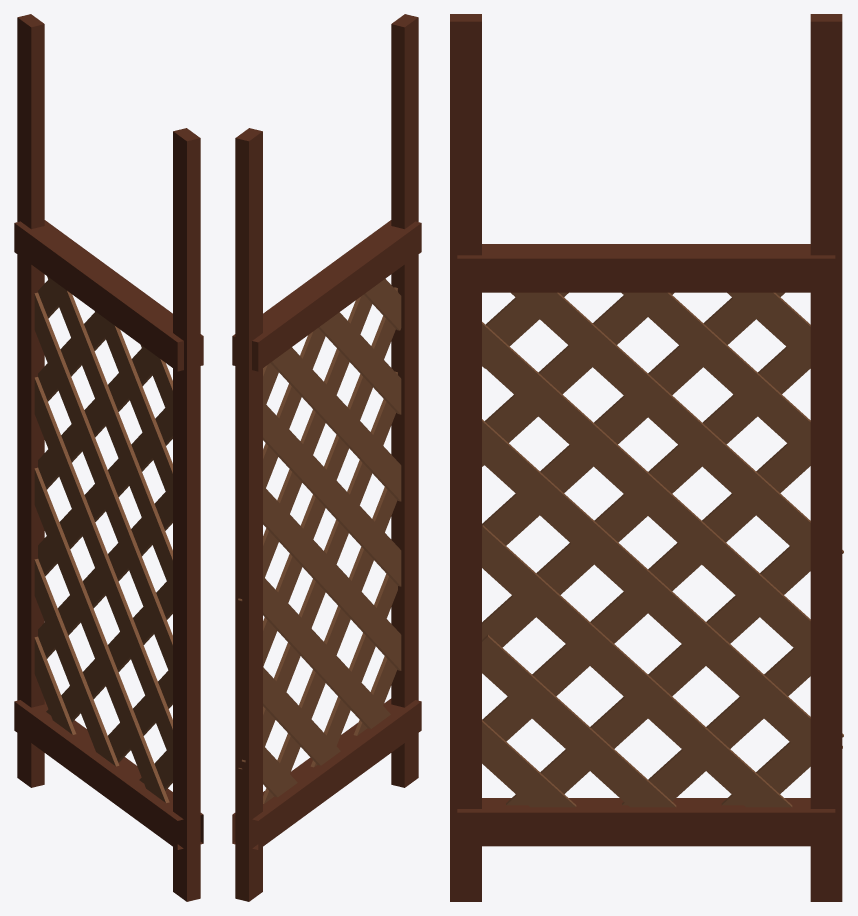
File: lattice_textured.fbx
The picture shows the model from 3 angles, left to right: view 1: azimuth 30°, elevation 25°; view 2: azimuth 150°, elevation 25°; view 3: azimuth 270°, elevation 25°; orthographic projection. The views are drawn at different scales.
Visible parts, largest first — view 1: lattice; view 2: lattice; view 3: lattice.
Part boxes in pixels (bbox=[...]): lattice: bbox=[14, 14, 203, 901]; lattice: bbox=[232, 14, 421, 901]; lattice: bbox=[450, 14, 843, 901].
Bounding box in the file's own units: 12.73 × 356 × 144.
